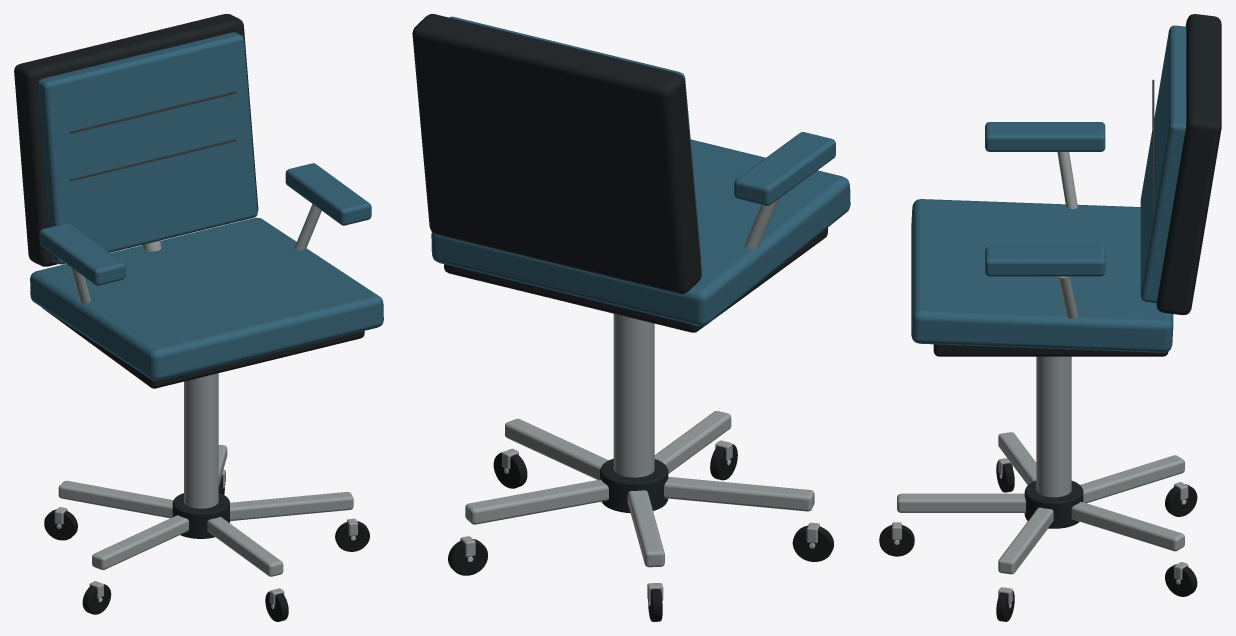
The model's file is office-chair.glb.
3 renders of one model, left to right at view 1: azimuth 30°, elevation 25°; view 2: azimuth 150°, elevation 25°; view 3: azimuth 270°, elevation 25°, orthographic. The views are drawn at different scales.
Visible parts, largest first — view 1: Runtime batch - Muted laboratory blue upholstery, Runtime batch - Powder coat service gray, Runtime batch - Black engineering polymer, Runtime batch - Black leveling-foot rubber, Runtime batch - Worn vinyl seat edge; view 2: Runtime batch - Black engineering polymer, Runtime batch - Muted laboratory blue upholstery, Runtime batch - Powder coat service gray, Runtime batch - Black leveling-foot rubber; view 3: Runtime batch - Muted laboratory blue upholstery, Runtime batch - Powder coat service gray, Runtime batch - Black engineering polymer, Runtime batch - Black leveling-foot rubber.
Part boxes in pixels (left/top/right/bottom): Runtime batch - Muted laboratory blue upholstery: left=30, top=32, right=383, bottom=380; Runtime batch - Powder coat service gray: left=54, top=204, right=357, bottom=605; Runtime batch - Black engineering polymer: left=14, top=14, right=364, bottom=538; Runtime batch - Black leveling-foot rubber: left=44, top=475, right=369, bottom=621; Runtime batch - Worn vinyl seat edge: left=70, top=91, right=236, bottom=181; Runtime batch - Black engineering polymer: left=412, top=14, right=827, bottom=513; Runtime batch - Muted laboratory blue upholstery: left=431, top=16, right=850, bottom=326; Runtime batch - Powder coat service gray: left=460, top=199, right=819, bottom=601; Runtime batch - Black leveling-foot rubber: left=448, top=444, right=833, bottom=621; Runtime batch - Muted laboratory blue upholstery: left=911, top=25, right=1186, bottom=352; Runtime batch - Powder coat service gray: left=892, top=152, right=1188, bottom=604; Runtime batch - Black engineering polymer: left=933, top=14, right=1221, bottom=528; Runtime batch - Black leveling-foot rubber: left=879, top=461, right=1197, bottom=621.
Size of the model in its own units: 0.62 by 0.9767 by 0.62.
